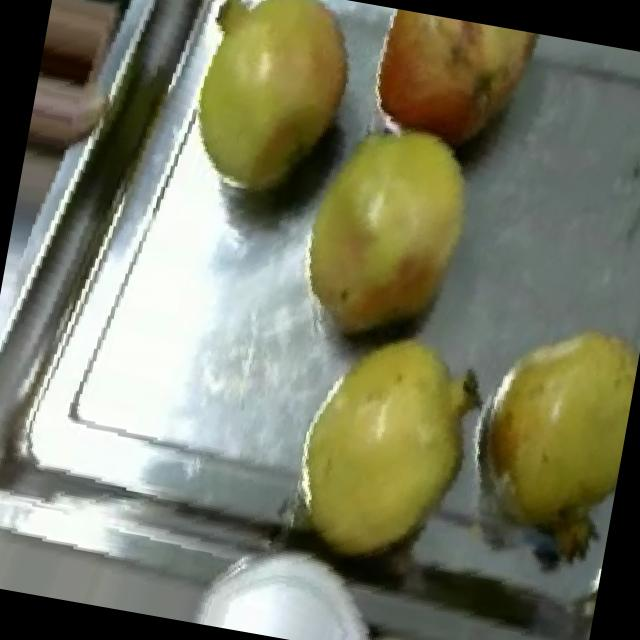fruit: (254, 286, 518, 604), (264, 91, 508, 371), (153, 0, 387, 229), (338, 5, 570, 184)
